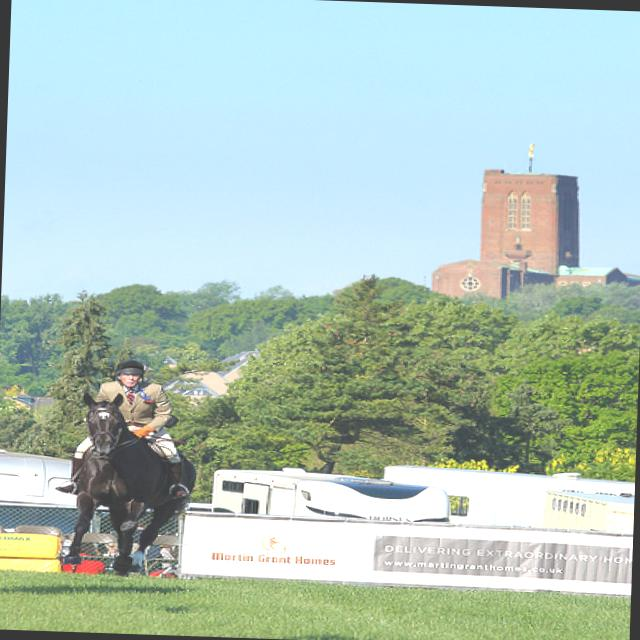Vehicle: (379, 465, 635, 531), (210, 463, 450, 523), (206, 468, 454, 522), (0, 446, 77, 504), (539, 488, 634, 532)
